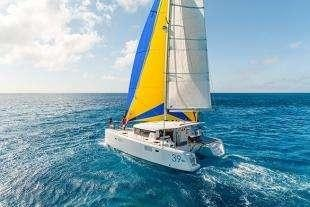fanchuan: (103, 1, 228, 175)
